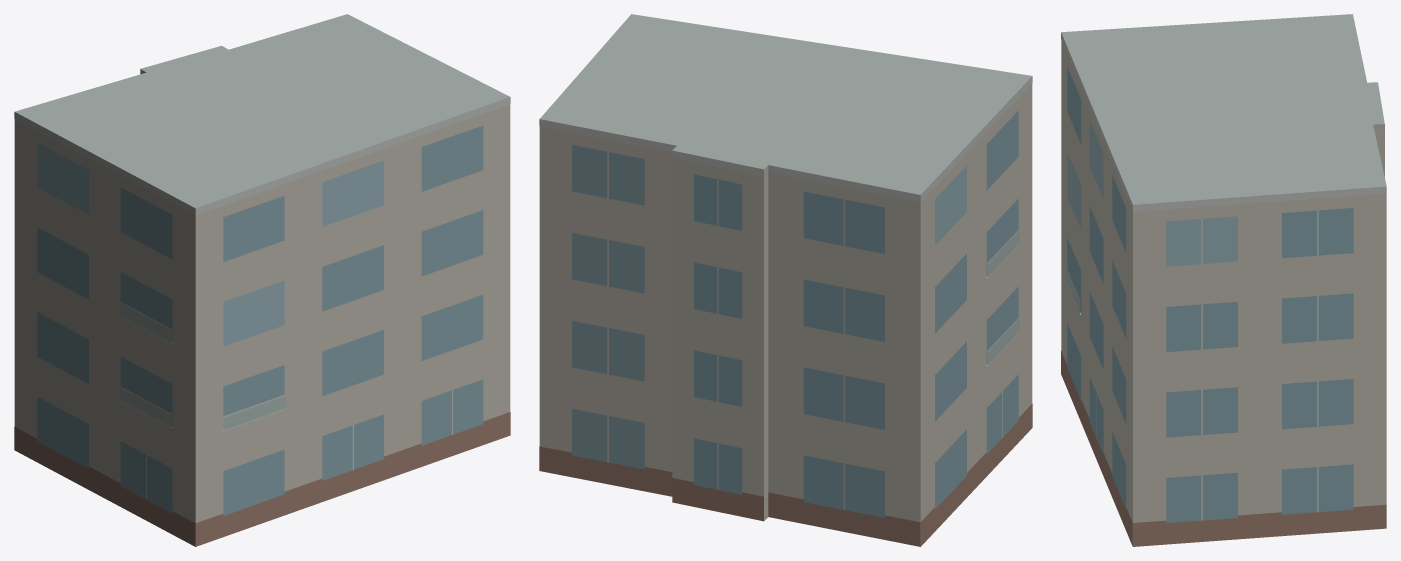
Rendered from survey-upis-32633792.glb.
3 views of the same model, side by side, from view 1: azimuth 30°, elevation 25°; view 2: azimuth 150°, elevation 25°; view 3: azimuth 270°, elevation 25° (orthographic). The views are drawn at different scales.
Visible parts, largest first — view 1: survey-upis-32633792.tmp; view 2: survey-upis-32633792.tmp; view 3: survey-upis-32633792.tmp.
Boxes of the visible parts, box(x1,y1,x2,y2) form: survey-upis-32633792.tmp: box(14, 14, 510, 546); survey-upis-32633792.tmp: box(539, 14, 1032, 546); survey-upis-32633792.tmp: box(1061, 14, 1386, 546).
Bounding box in the file's own units: 13.89 × 11.6 × 10.02.
